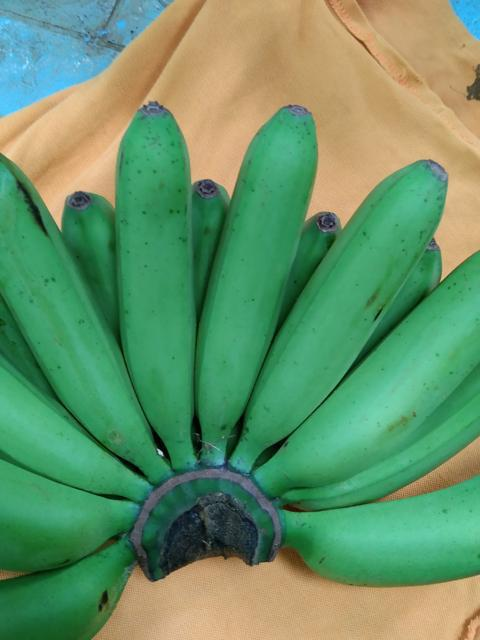freshunripe: (238, 148, 446, 439), (178, 98, 326, 441), (263, 252, 479, 486), (104, 99, 215, 464), (0, 349, 159, 501), (278, 470, 479, 588), (0, 449, 134, 581), (0, 543, 112, 639)
